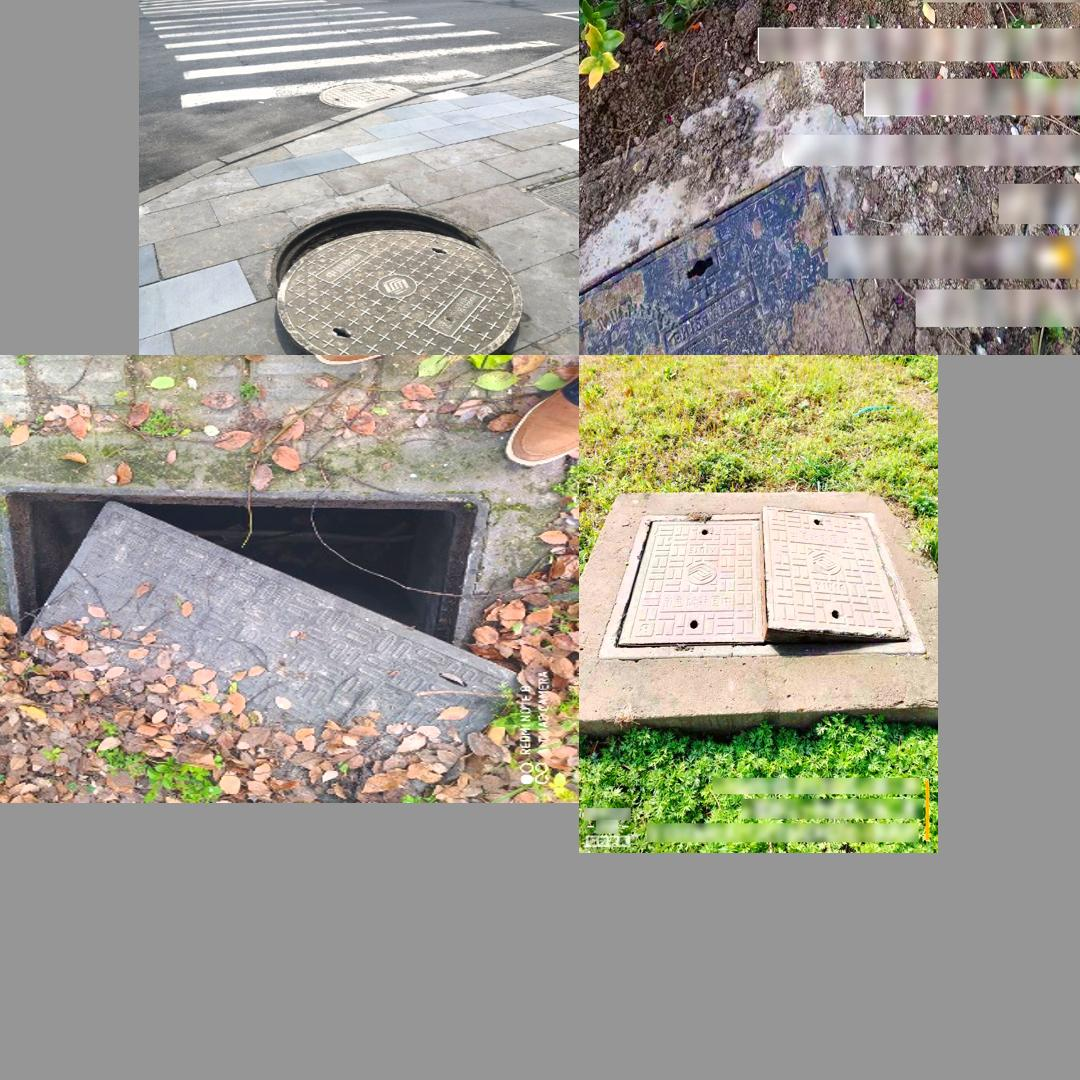good: (319, 83, 419, 107)
lose: (0, 505, 464, 800)
uncovered: (595, 512, 927, 662), (269, 205, 521, 353)
